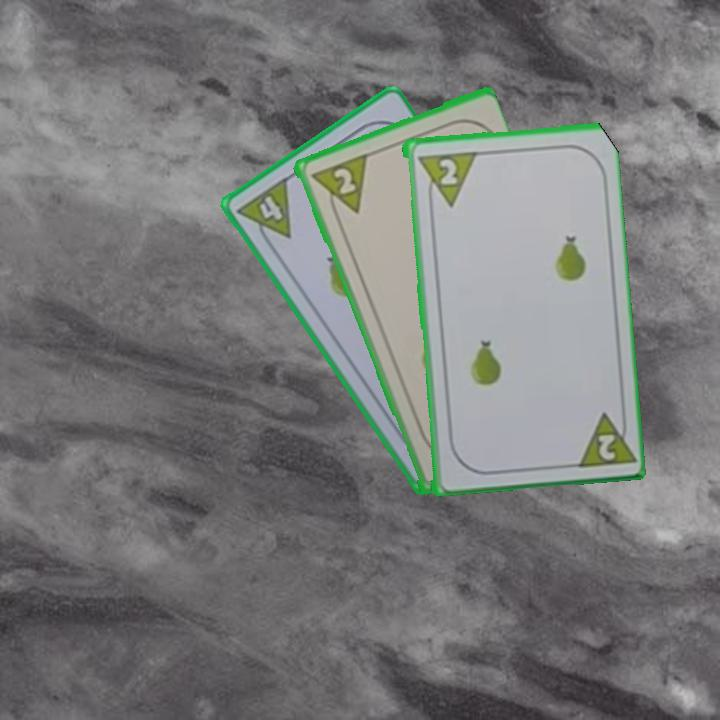2p: (306, 150, 370, 223), (570, 405, 635, 470), (412, 147, 477, 210)
4p: (233, 173, 294, 253)
